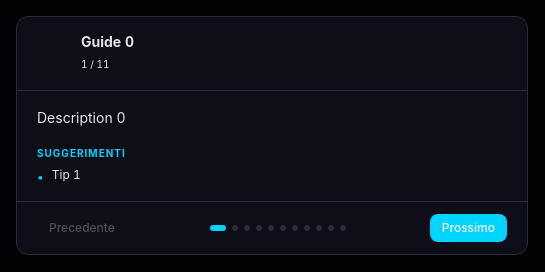
Test: GuideTour › navigates to previous step
Step 1. Click the button "Prossimo" → {"x": 468, "y": 228}, box top-left (430, 214), bottom-right (507, 242)
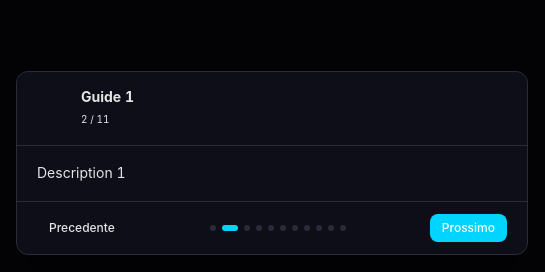
Expected: the heading "Guide 1" is shown, top-left (81, 88), bottom-right (134, 105)
Step 2. Click the button "Precedente" → {"x": 82, "y": 228}, box top-left (37, 214), bottom-right (127, 242)
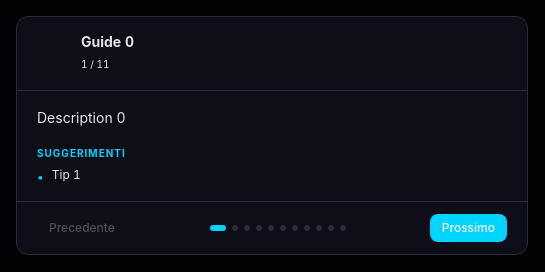
Expected: the heading "Guide 0" is shown, top-left (81, 33), bottom-right (134, 50)
